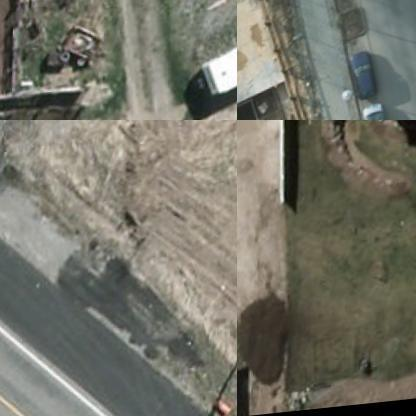camping car: (189, 22, 236, 106)
car: (344, 56, 378, 109), (356, 107, 393, 119)
